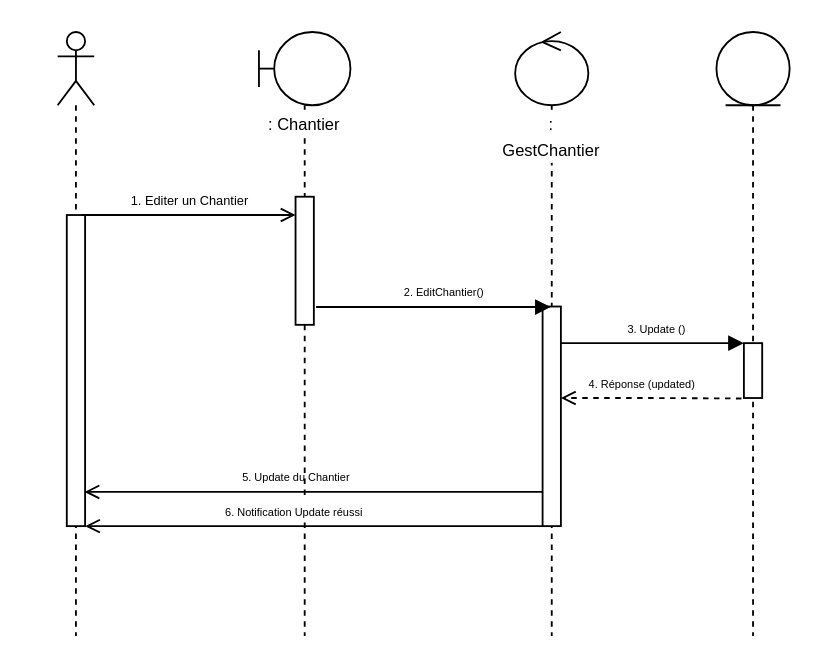
Some shapes in this 822 by 668 pixel diagram are drawn without their labels. The box of each missing label's shape, as (x1, y1, x2, y2) in pixels:
: Commercial: (56, 30, 94, 636)
: SGBD: (715, 30, 790, 636)
